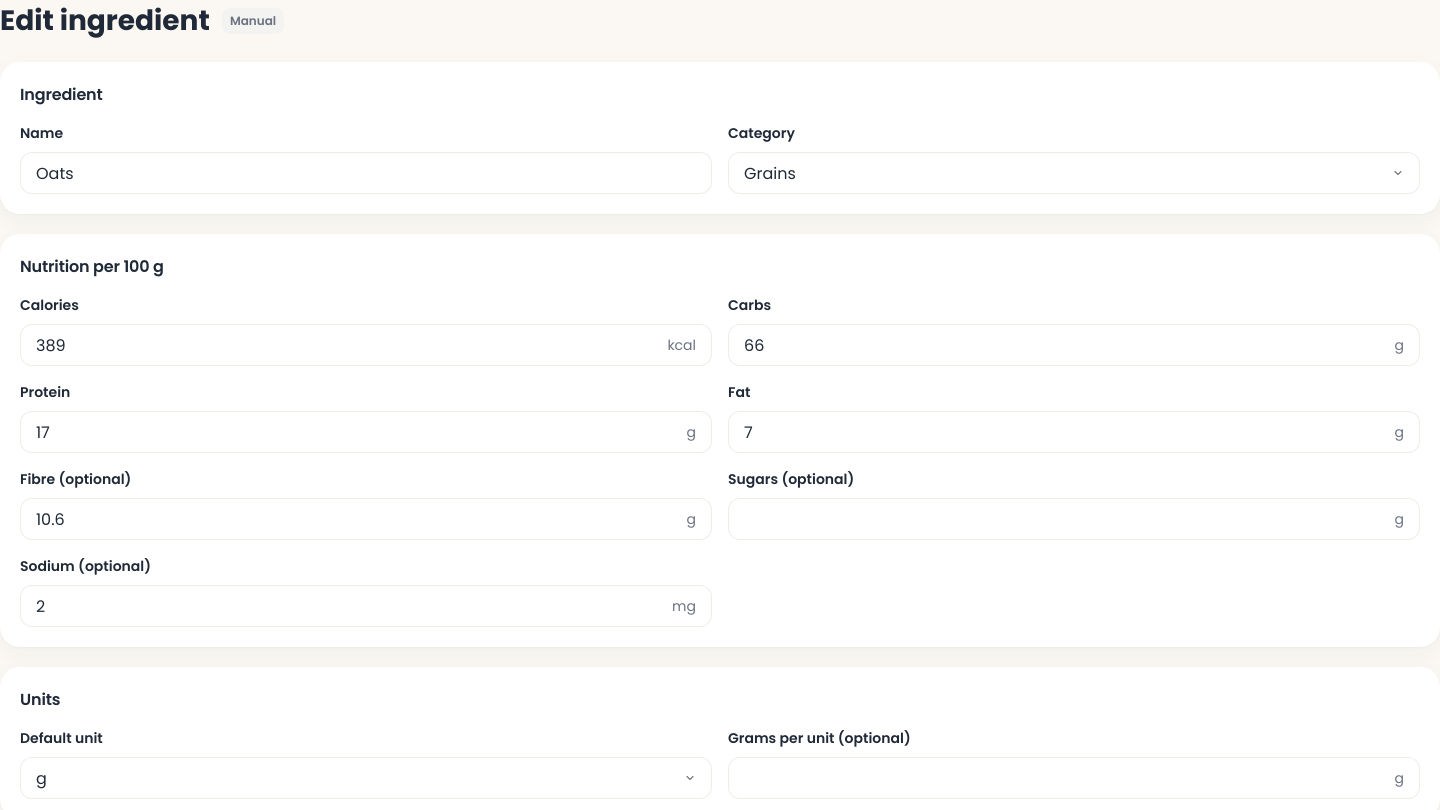
Test: IngredientsPage /ingredients/:id (edit) › shows a generic save error on a PATCH failure and keeps the input
The width and height of the screenshot is (1440, 810).
Check: the heading "Edit ingredient" is shown, box [0,0,210,42]
Replace the text in the field labelled "Name" with "Rolled oats" at (366,173), box [36,152,696,194]
(page scrolled)
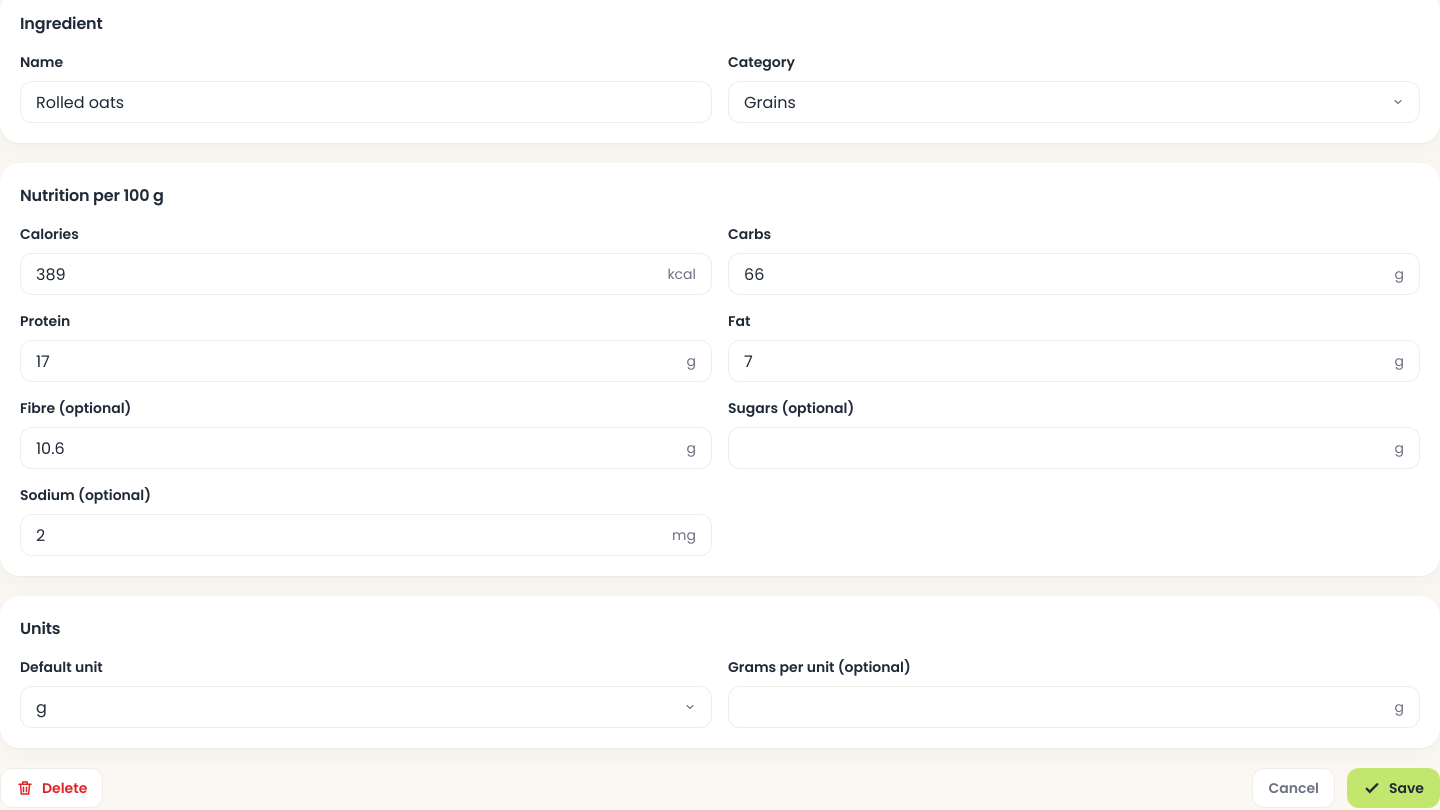
Click the button "Save" at (1394,788), box [1347,768,1439,808]
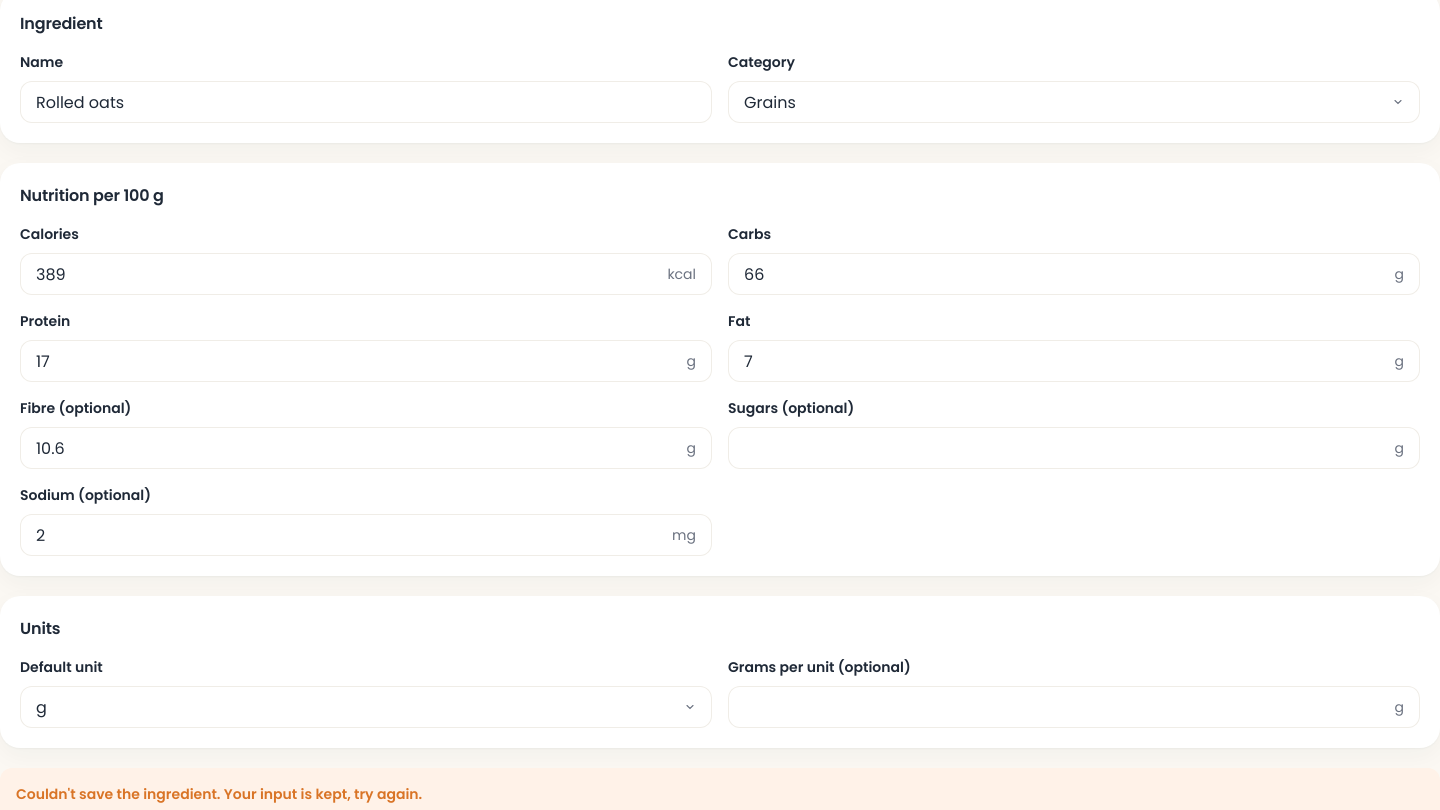
Check: the message reads "Couldn't save the ingredient. Your input is kept, try again.", box [16,784,422,804]
